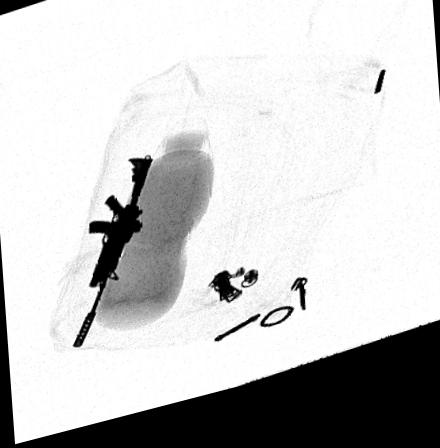Gun: (73, 164, 153, 351)
